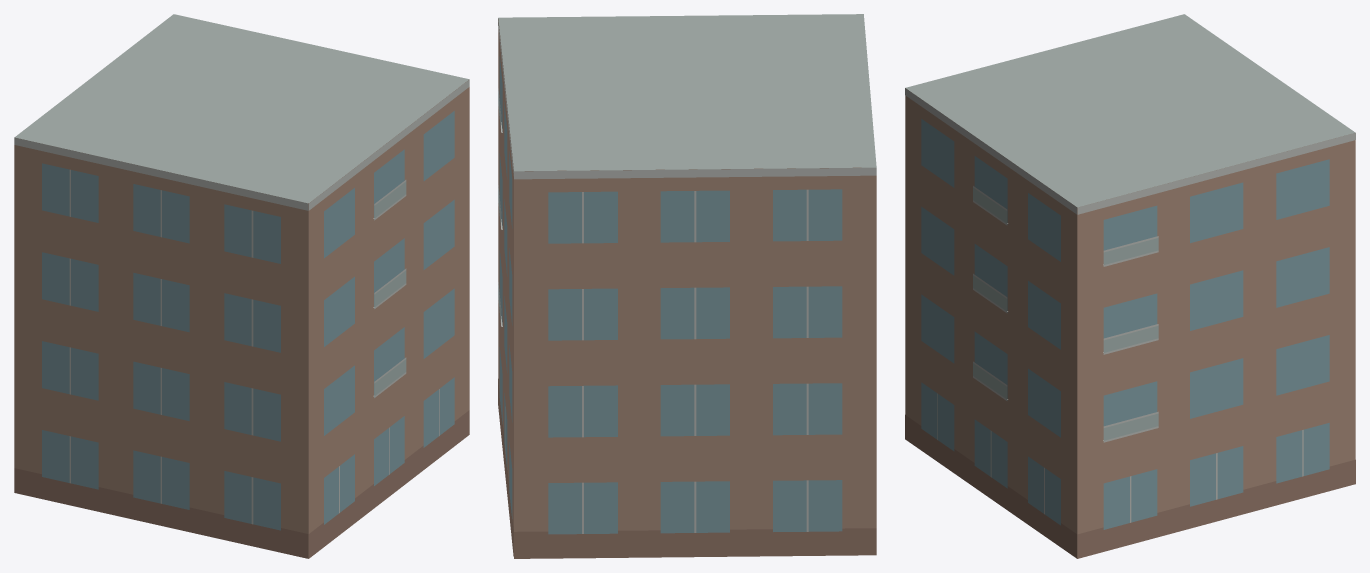
File: survey-upis-32893736.glb
3 views of the same model, side by side, from view 1: azimuth 30°, elevation 25°; view 2: azimuth 150°, elevation 25°; view 3: azimuth 270°, elevation 25° (orthographic). The views are drawn at different scales.
Parts seen in each view (by area): view 1: survey-upis-32893736.tmp; view 2: survey-upis-32893736.tmp; view 3: survey-upis-32893736.tmp.
Boxes of the visible parts, x1=… form: survey-upis-32893736.tmp: x1=14, y1=14, x2=469, y2=558; survey-upis-32893736.tmp: x1=498, y1=14, x2=876, y2=558; survey-upis-32893736.tmp: x1=905, y1=14, x2=1355, y2=558.
Bounding box in the file's own units: 13.77 × 11.65 × 13.55.
